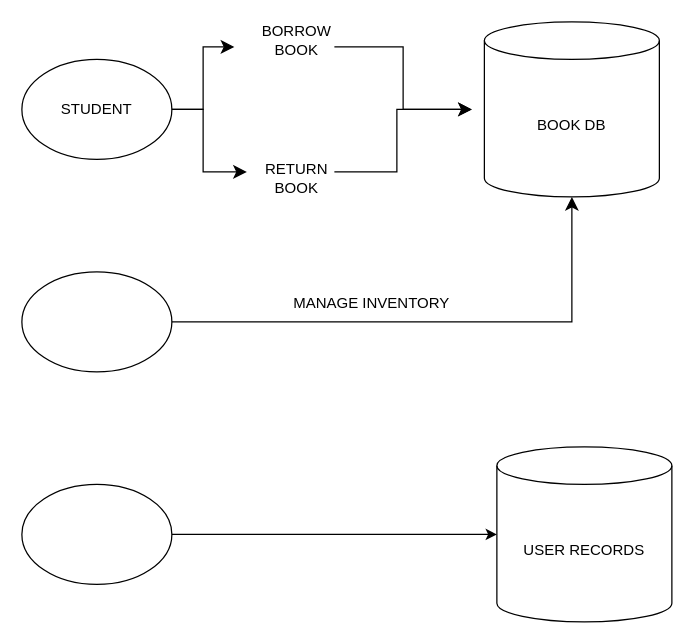
The diagram is 694 pixels wide and 644 high, and some of its shapes have lost their labels. The centre of each missing label's shape, as x and y in pixels:
"ADMIN" belongs at (96,533).
"LIBRARIAN" belongs at (96,321).
